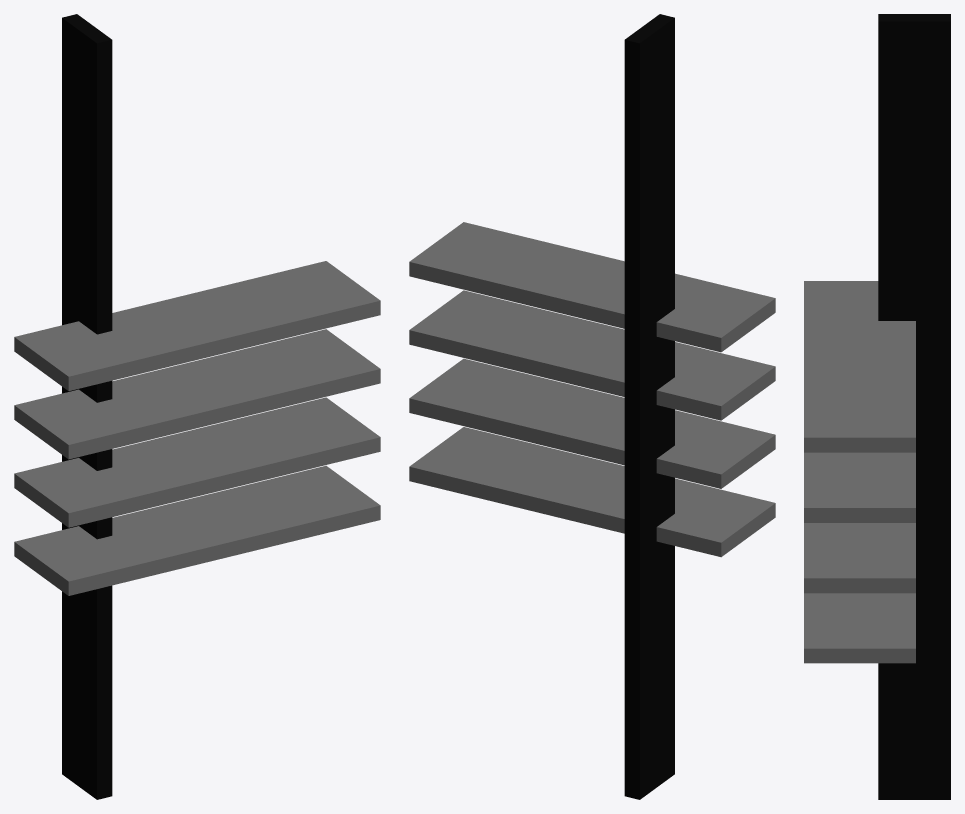
File: Sushi_Shelf_2.glb
The picture shows the model from 3 angles, left to right: view 1: azimuth 30°, elevation 25°; view 2: azimuth 150°, elevation 25°; view 3: azimuth 270°, elevation 25°; orthographic projection. The views are drawn at different scales.
Parts seen in each view (by area): view 1: sushi_bar_shelf_02_geo; view 2: sushi_bar_shelf_02_geo; view 3: sushi_bar_shelf_02_geo.
Boxes of the visible parts, <box> form: sushi_bar_shelf_02_geo: <box>14,14,380,799</box>; sushi_bar_shelf_02_geo: <box>409,14,775,799</box>; sushi_bar_shelf_02_geo: <box>804,14,950,799</box>.
Size of what is drawn, in the model's own units: 1.63 by 3.77 by 0.6446.
Materials: 1 (1 with a texture image).
